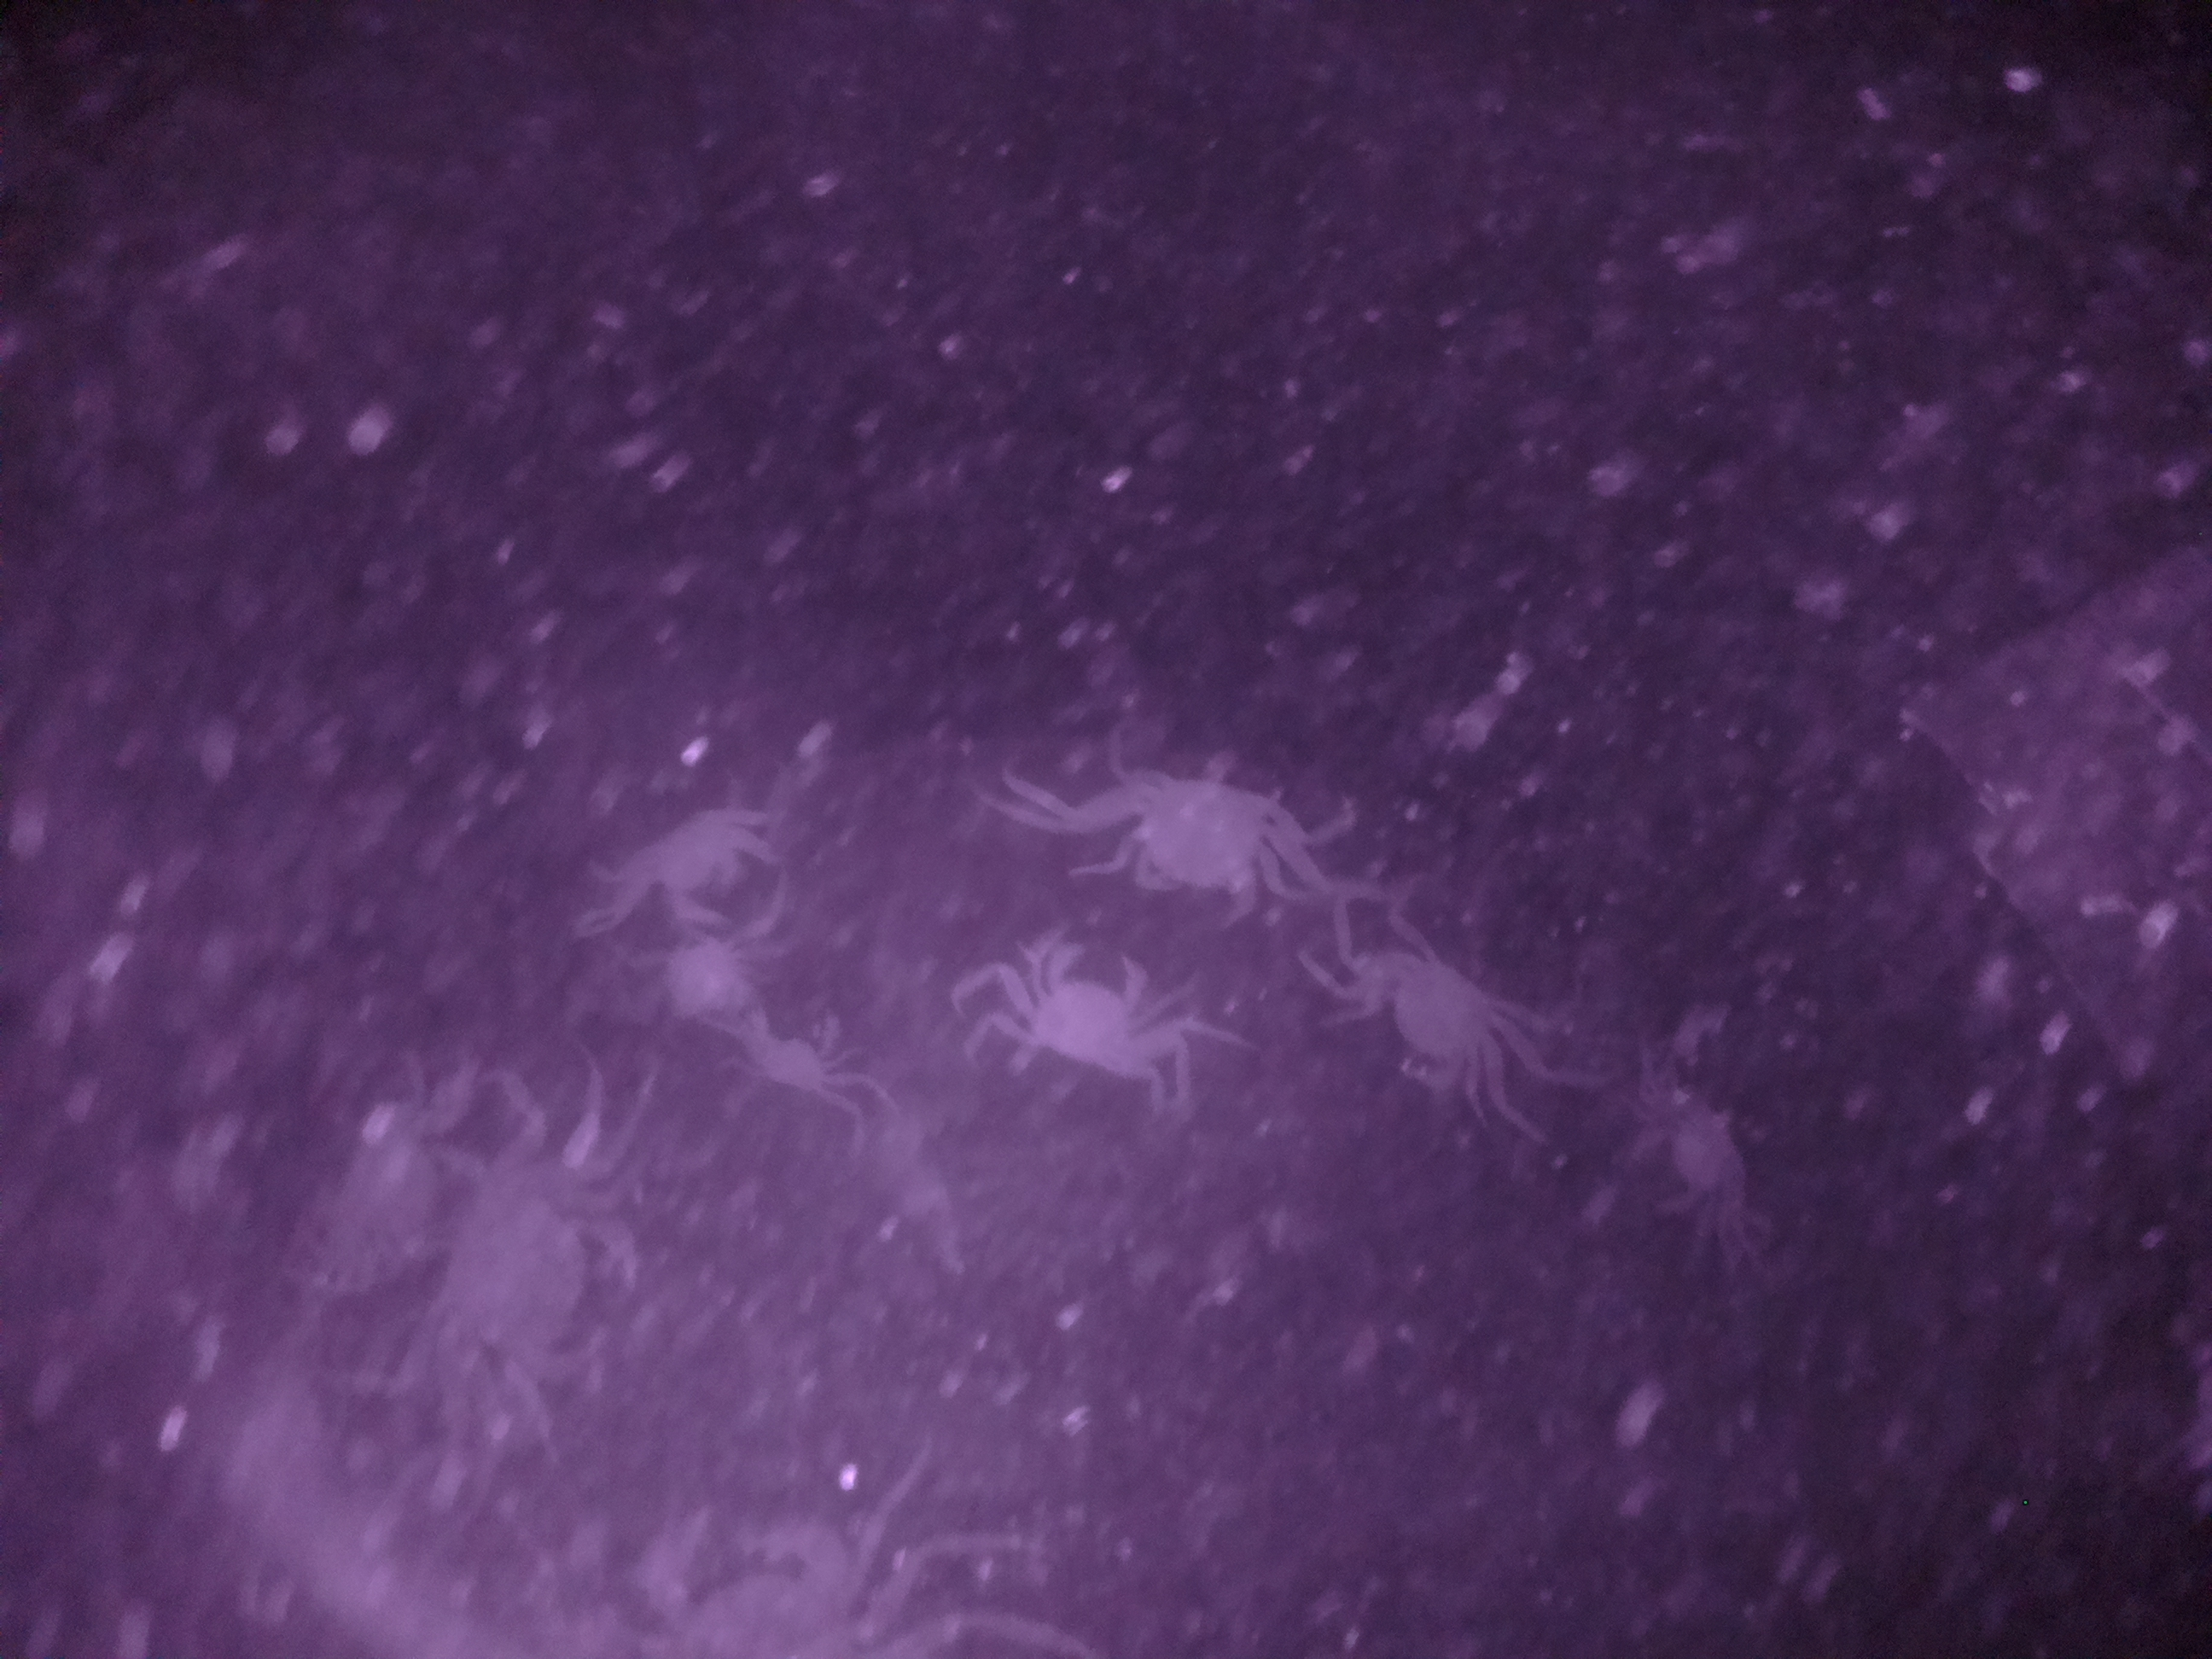Crab: (1101, 737, 1301, 924), (996, 910, 1183, 1105)
